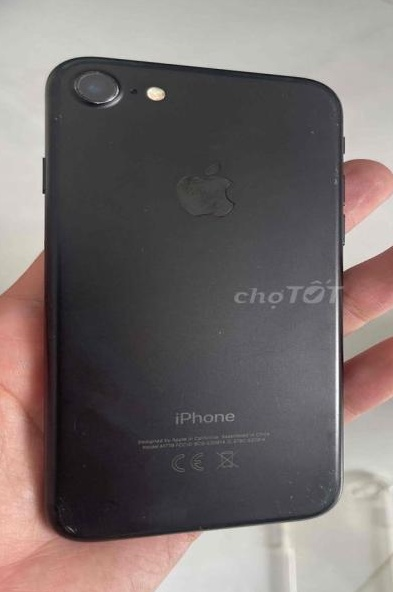scratch: (283, 74, 346, 189), (271, 441, 339, 518), (171, 159, 238, 221), (62, 62, 123, 110), (48, 494, 82, 534), (62, 412, 88, 441), (274, 387, 285, 415), (206, 327, 223, 337), (51, 111, 63, 121), (104, 138, 113, 146)
